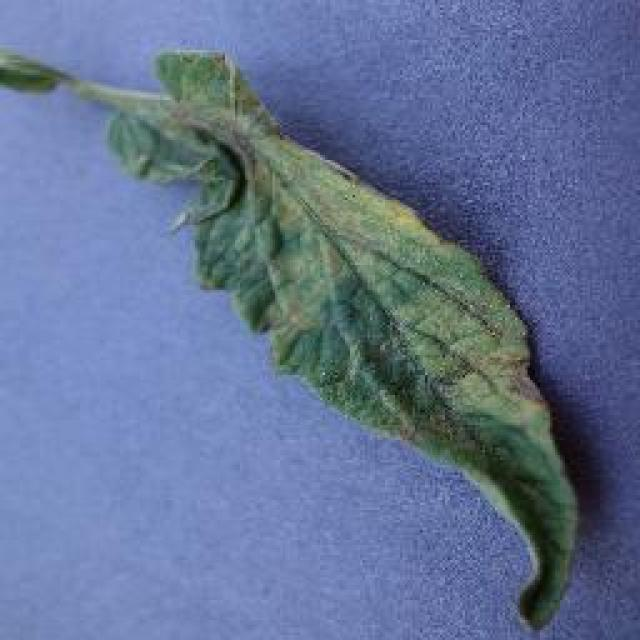Tomato___Leaf_Mold: (0, 48, 575, 625)
